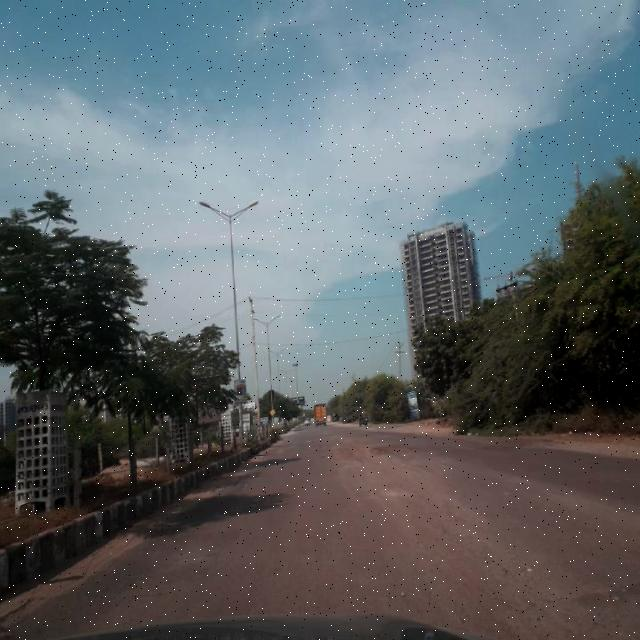D40: (323, 433, 412, 472)
